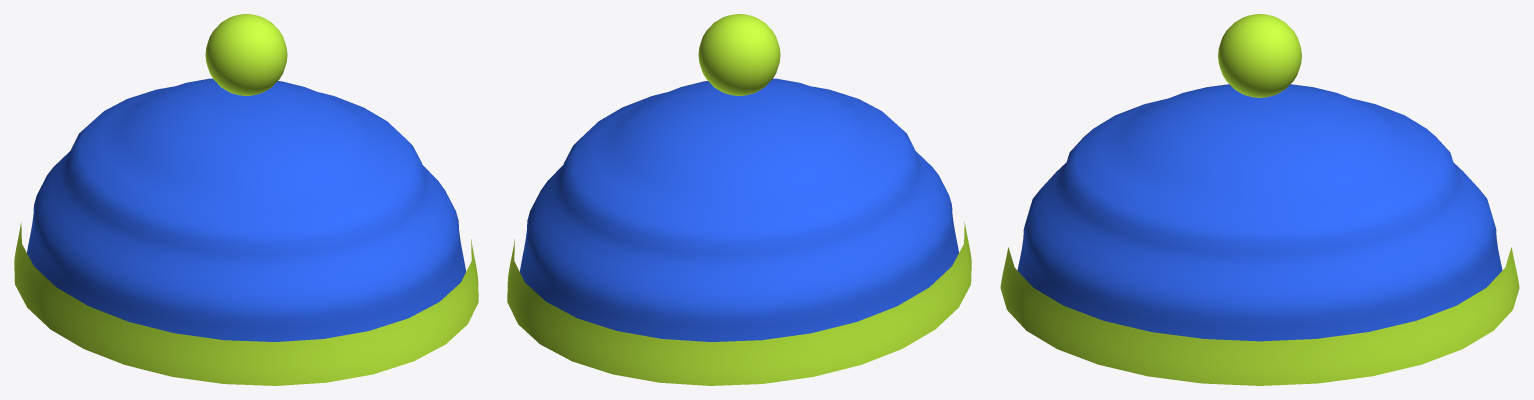
The model's file is hat_beanie_female.glb.
The picture shows the model from 3 angles, left to right: view 1: azimuth 30°, elevation 25°; view 2: azimuth 150°, elevation 25°; view 3: azimuth 270°, elevation 25°; orthographic projection. The views are drawn at different scales.
Visible parts, largest first — view 1: beanie, fold, pompom; view 2: beanie, fold, pompom; view 3: beanie, fold, pompom.
Part boxes in pixels (bbox=[...]): beanie: bbox=[27, 78, 465, 341]; fold: bbox=[14, 222, 478, 385]; pompom: bbox=[205, 14, 287, 95]; beanie: bbox=[520, 78, 958, 341]; fold: bbox=[507, 222, 971, 385]; pompom: bbox=[698, 14, 780, 95]; beanie: bbox=[1017, 84, 1502, 341]; fold: bbox=[1000, 247, 1519, 385]; pompom: bbox=[1218, 14, 1301, 97].
Bounding box in the file's own units: 0.353 × 0.227 × 0.3953.
